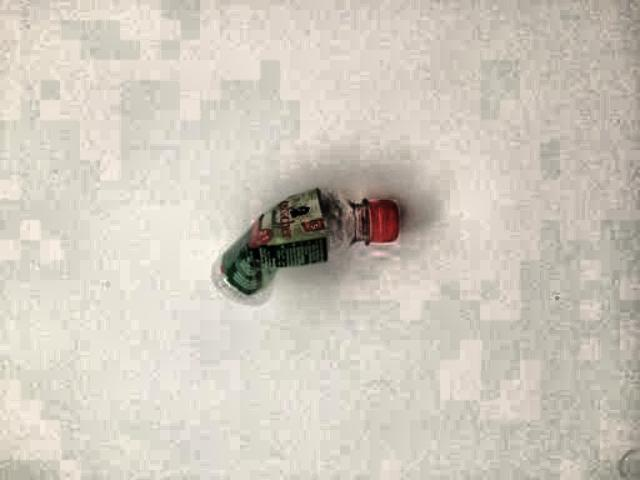Bottles: (206, 169, 402, 323)
